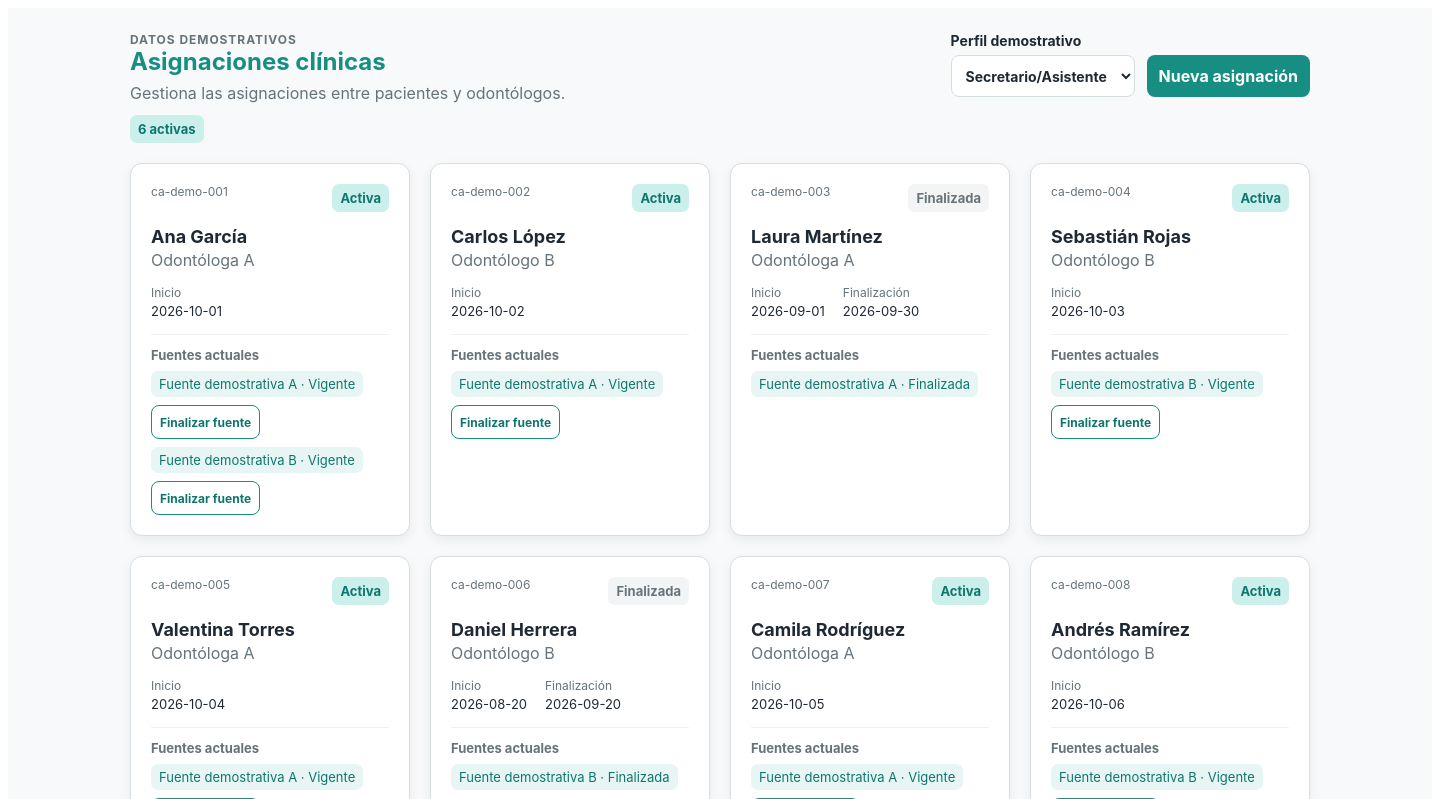
Test case: ClinicalAssignmentsPageComponent › creates an assignment only from an authorized demonstrable profile
The width and height of the screenshot is (1440, 799).
Click the button "Nueva asignación": (1228, 76) [1147,55,1310,97]
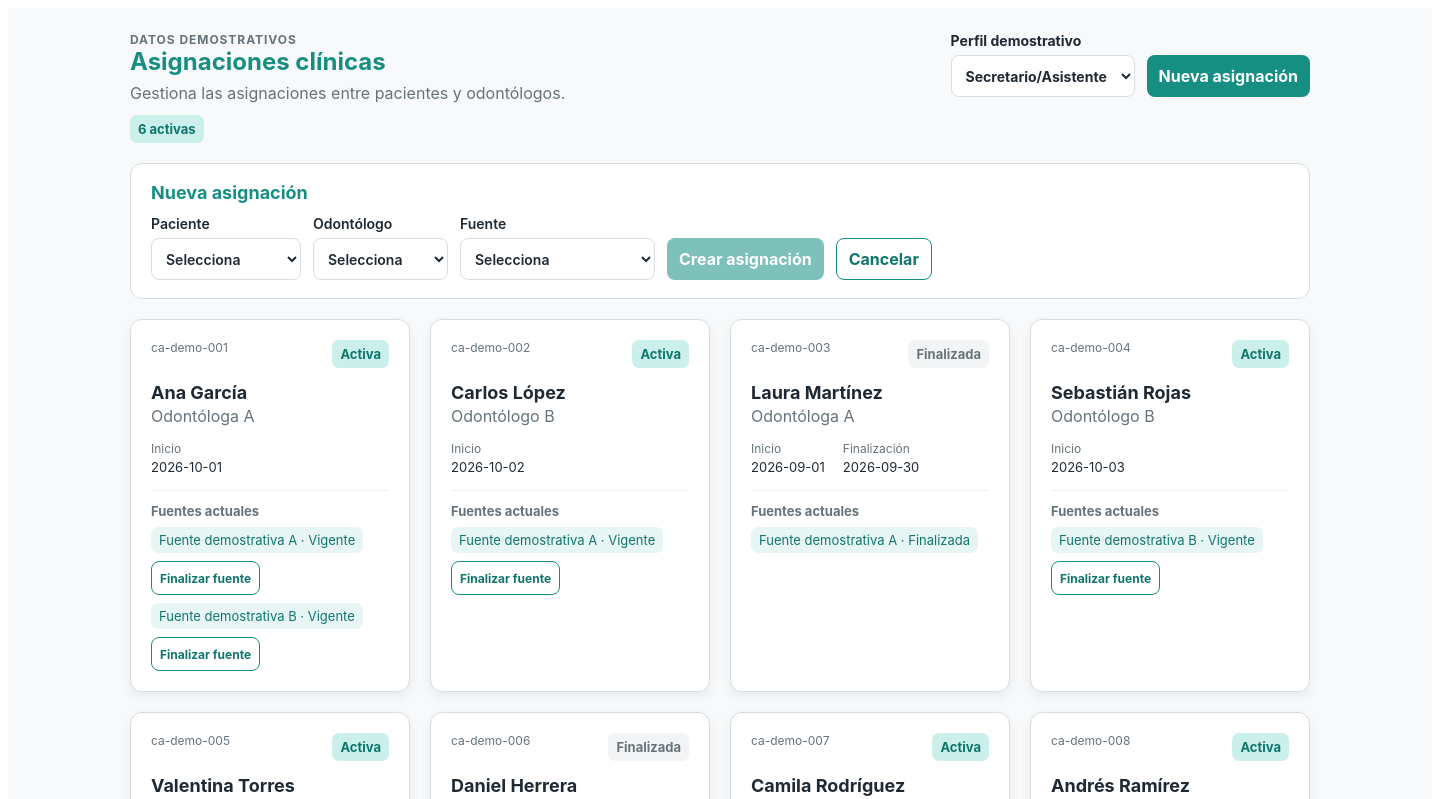
Select "Ana García" in the dropdown labelled "Paciente": (226, 259) [151,238,301,280]
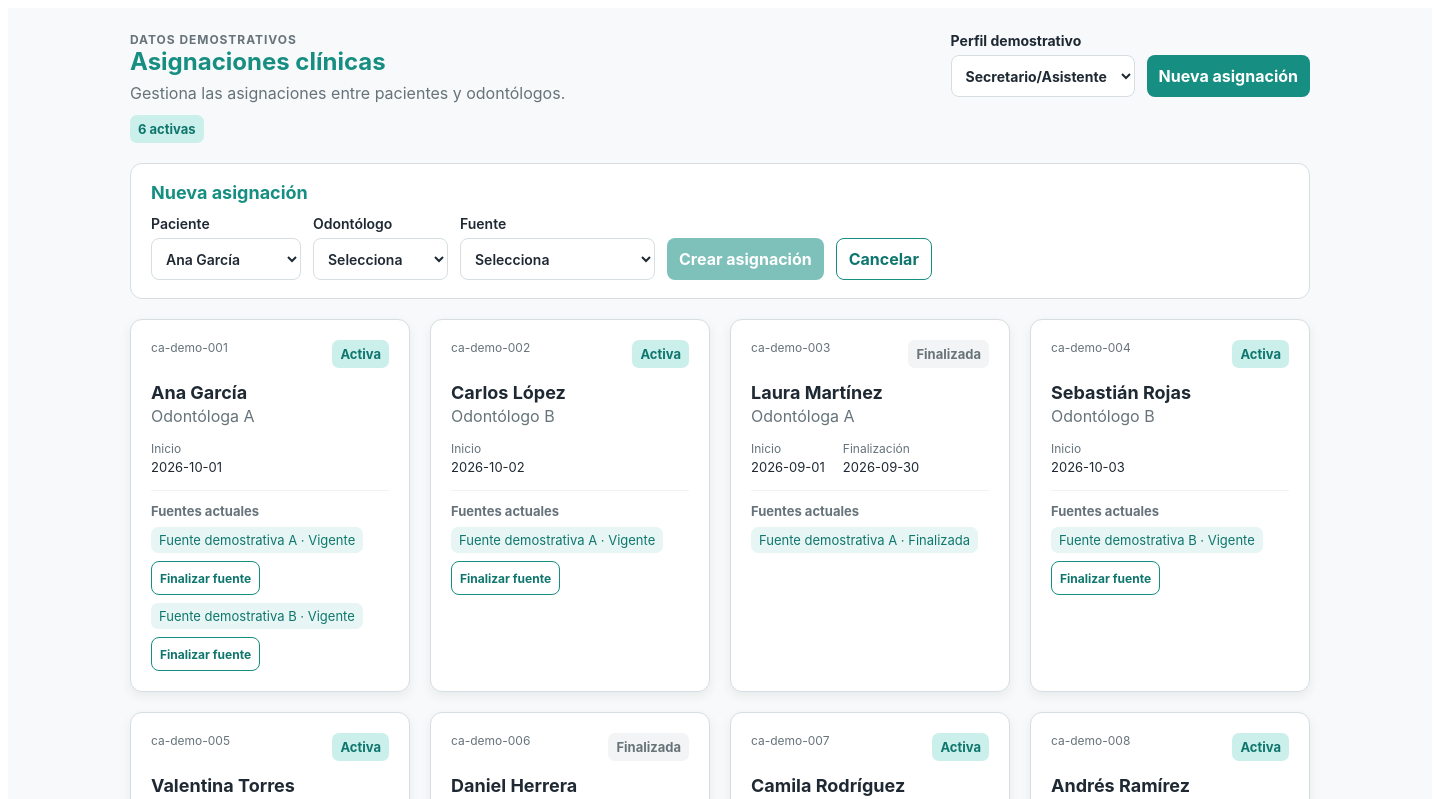
Select "Odontólogo B" in the dropdown labelled "Odontólogo": (380, 259) [313,238,448,280]
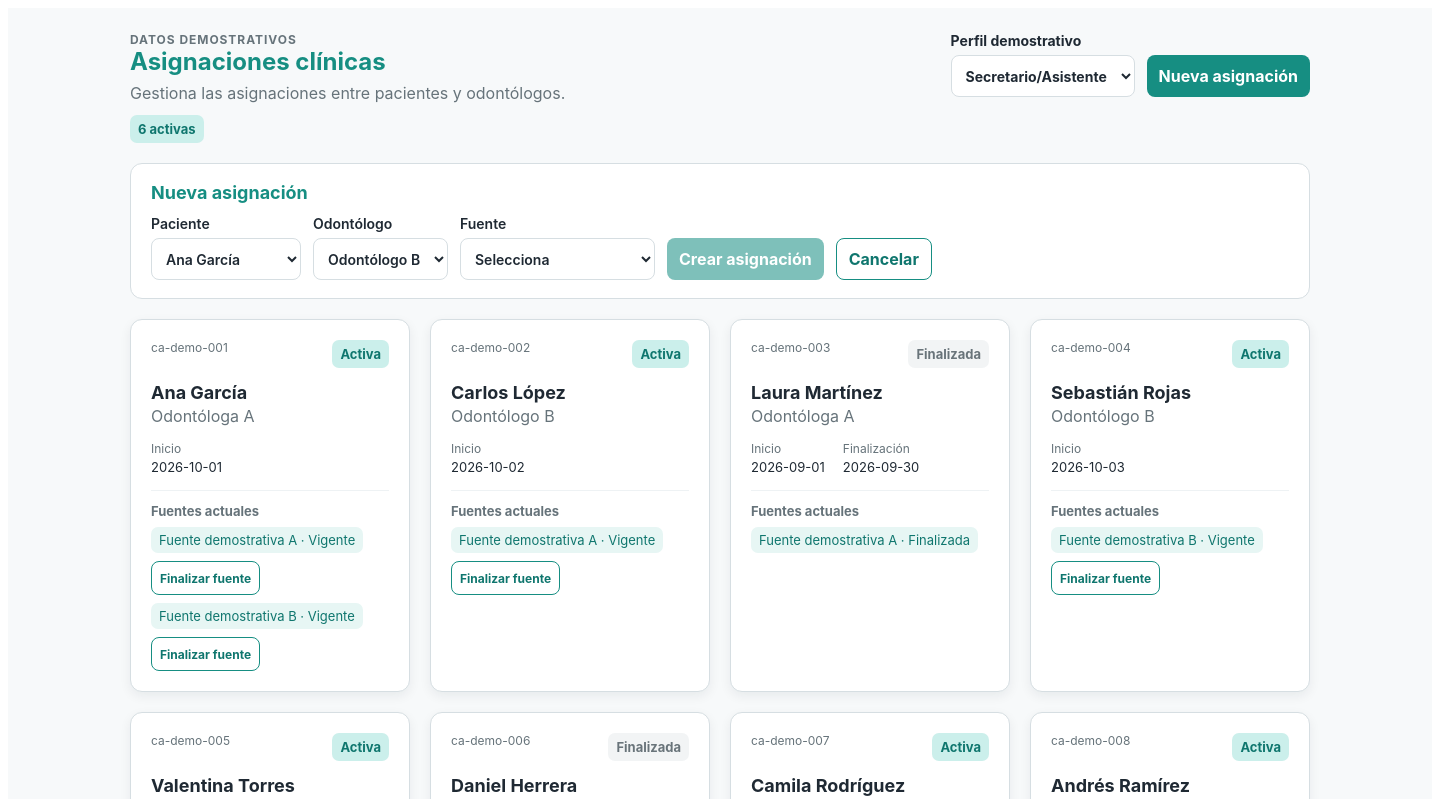
Select "Fuente demostrativa A" in the dropdown labelled "Fuente": (558, 259) [460,238,655,280]
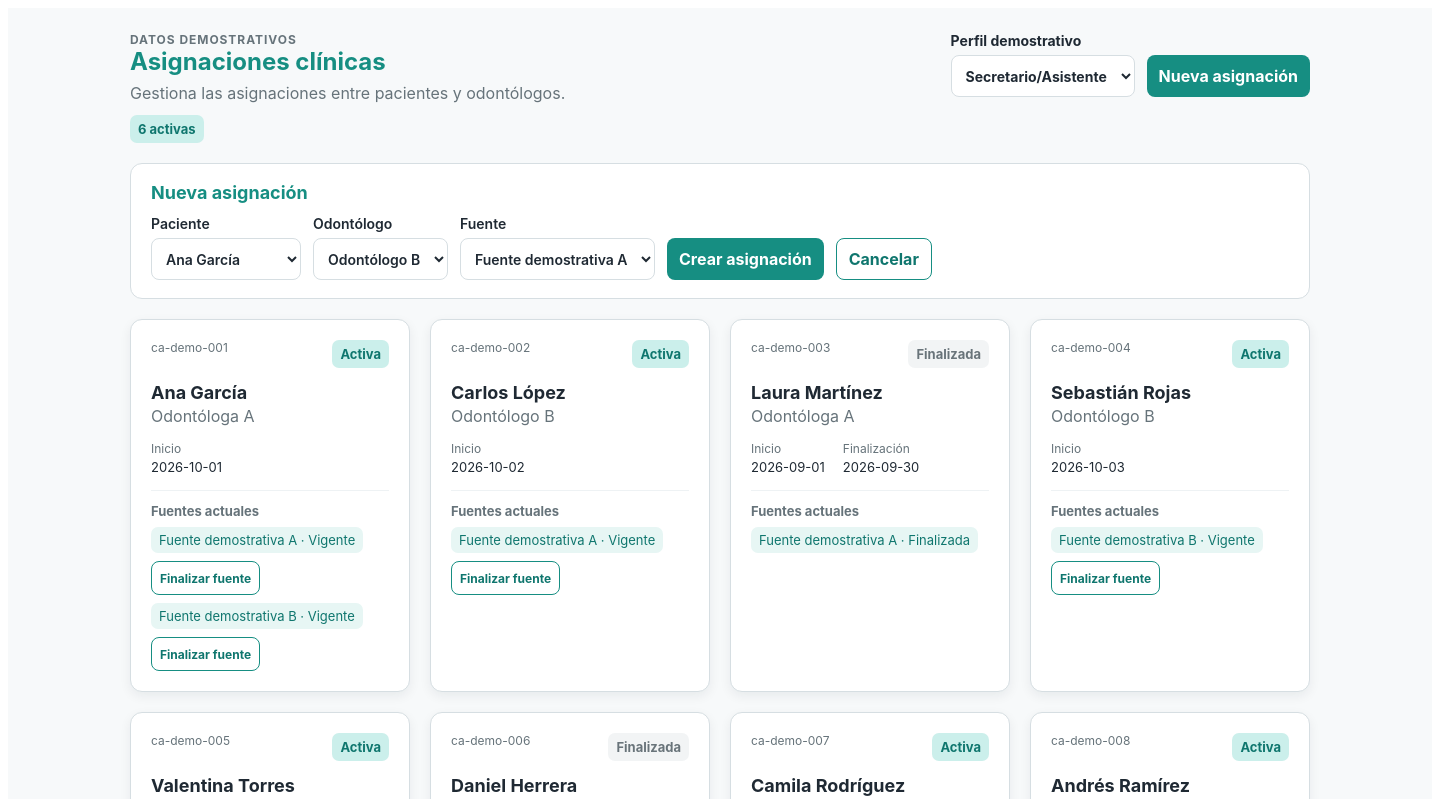
Click the button "Crear asignación": (745, 259) [667,238,824,280]
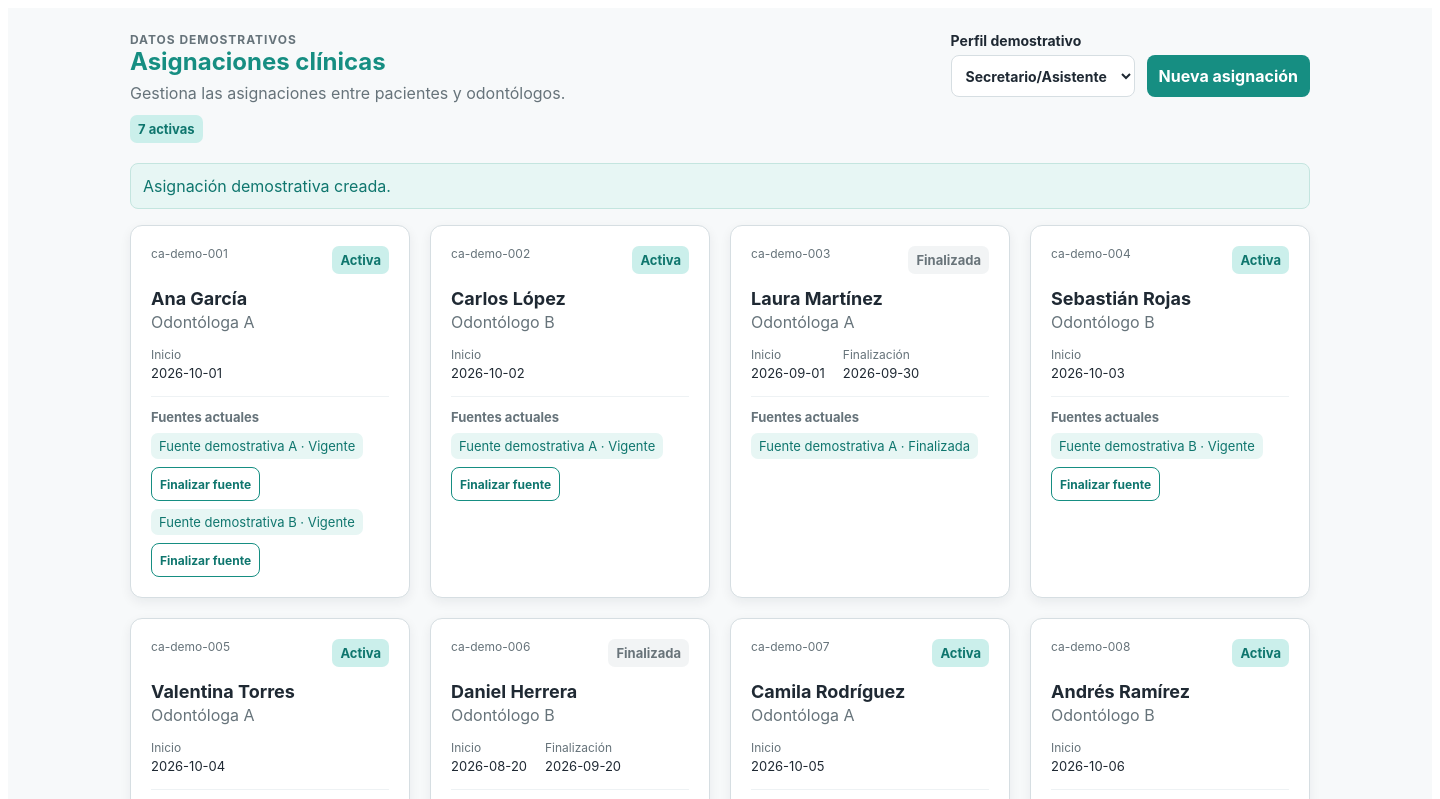
Expected: the text "Asignación demostrativa creada." is shown, [130,163,1310,209]
